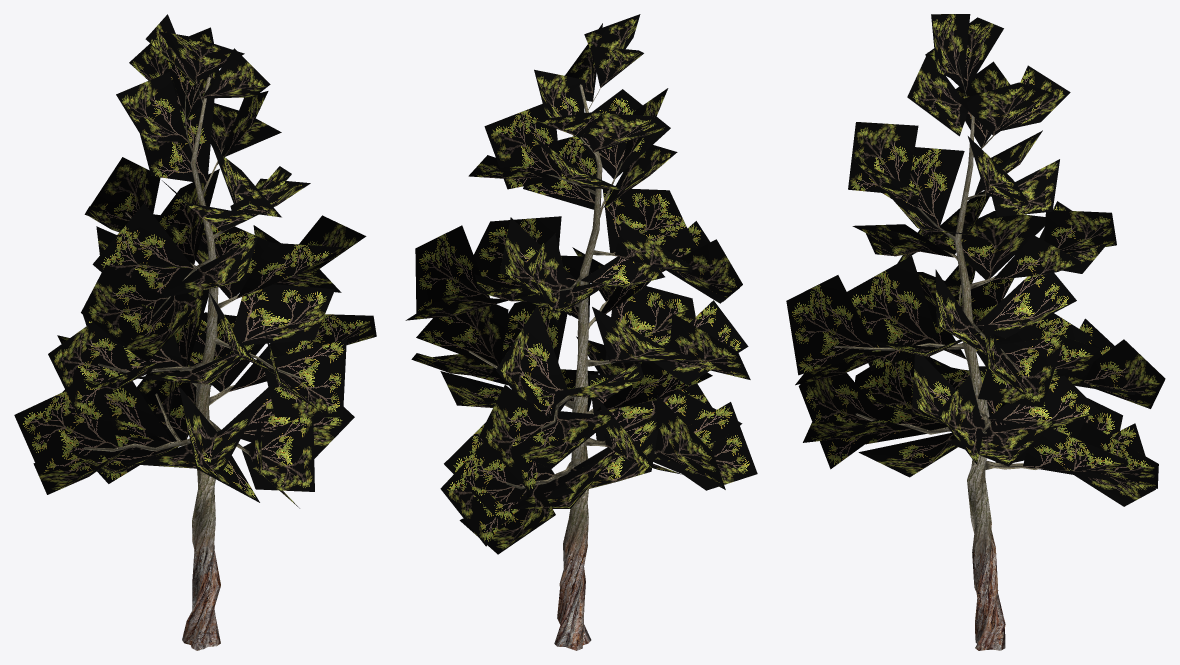
Rendered from pine.dae.
3 views of the same model, side by side, from view 1: azimuth 30°, elevation 25°; view 2: azimuth 150°, elevation 25°; view 3: azimuth 270°, elevation 25° (orthographic). The views are drawn at different scales.
Visible parts, largest first — view 1: Tree_1, Tree_0; view 2: Tree_1, Tree_0; view 3: Tree_1, Tree_0.
Boxes of the visible parts, bbox=[...] form: Tree_1: bbox=[14, 14, 376, 508]; Tree_0: bbox=[83, 76, 300, 650]; Tree_1: bbox=[405, 14, 757, 554]; Tree_0: bbox=[468, 84, 655, 650]; Tree_1: bbox=[786, 14, 1165, 506]; Tree_0: bbox=[834, 59, 1040, 650].
Size of the model in its own units: 155 by 155 by 277.
Materials: 2 (2 with a texture image).
